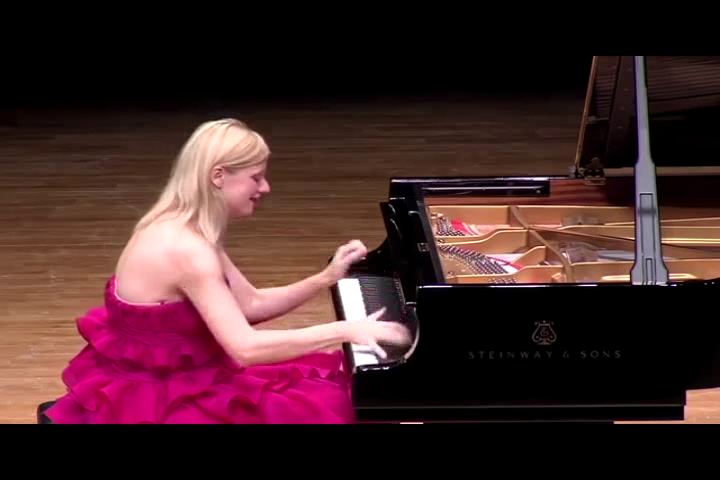keyboard: (333, 271, 416, 382)
